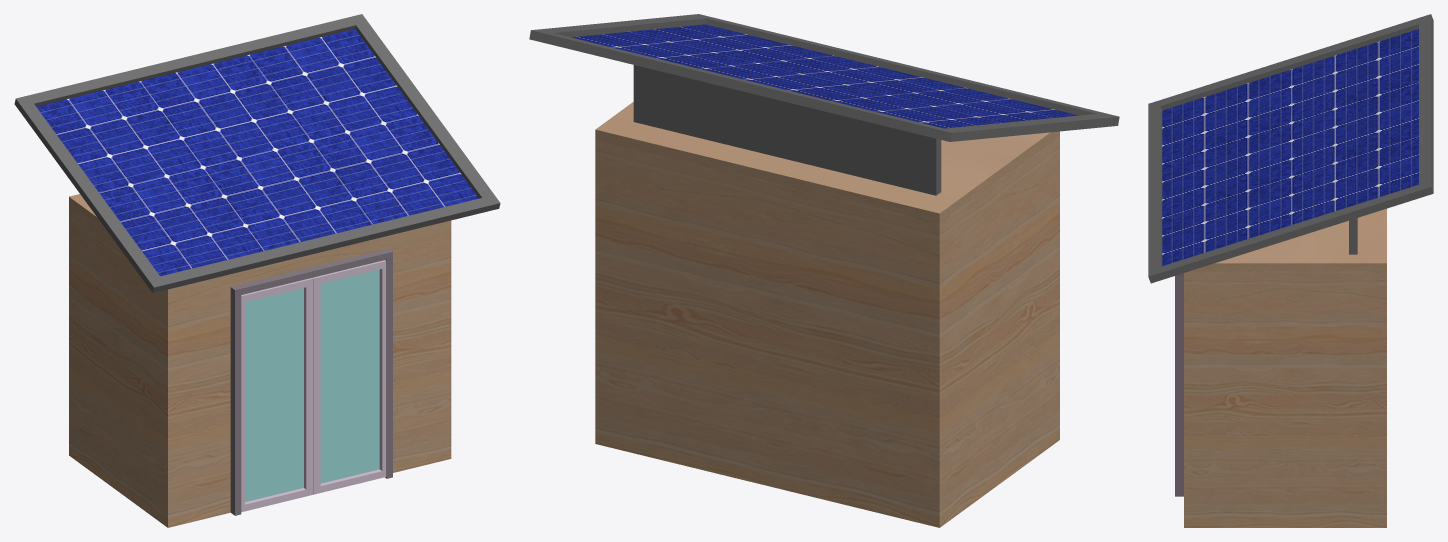
Rendered from objects_tinybox.gltf.
The picture shows the model from 3 angles, left to right: view 1: azimuth 30°, elevation 25°; view 2: azimuth 150°, elevation 25°; view 3: azimuth 270°, elevation 25°; orthographic projection. The views are drawn at different scales.
Visible parts, largest first — view 1: TinyBox; view 2: TinyBox; view 3: TinyBox.
Boxes of the visible parts, x1,y1,x2,y2 form: TinyBox: (14,14,500,527); TinyBox: (529,14,1119,527); TinyBox: (1148,14,1433,527).
Size of the model in its own units: 2.44 by 2.35 by 1.71.
1 material, 1 textured.
